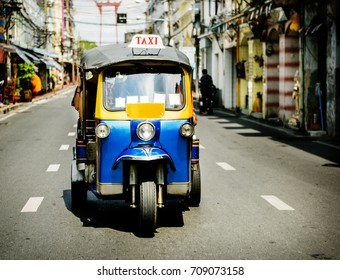threewheel: (71, 34, 202, 234)
